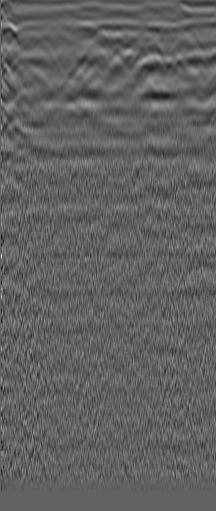오수: (25, 31, 55, 53)
우수: (164, 30, 195, 56)
